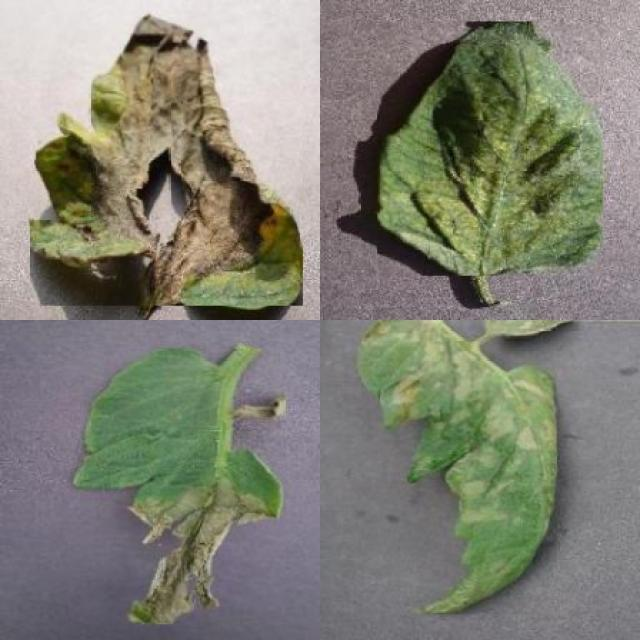Late Blight: (30, 14, 303, 306), (68, 349, 286, 624), (357, 320, 557, 614)
Spider Mites: (377, 21, 603, 276)
